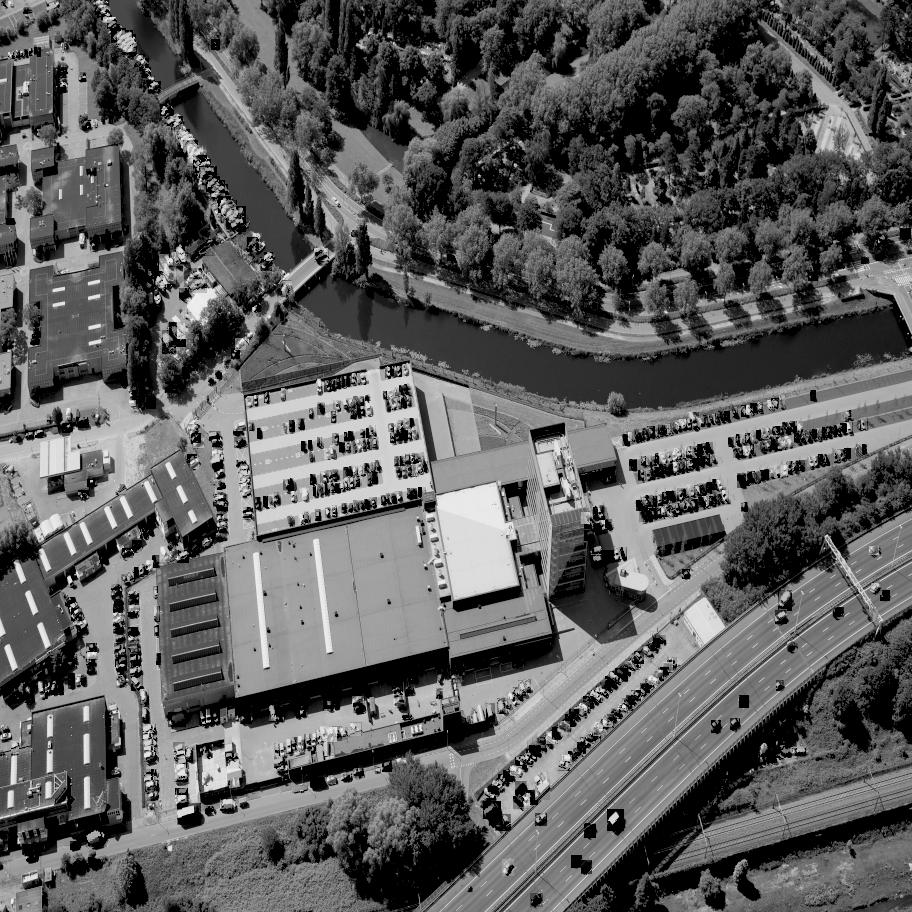large-vehicle: (176, 803, 204, 825), (85, 826, 109, 848), (606, 810, 627, 832), (167, 713, 188, 729), (494, 815, 514, 831), (130, 675, 145, 691), (313, 249, 330, 262), (188, 542, 202, 557), (280, 281, 294, 296), (172, 743, 188, 756), (689, 413, 701, 430), (199, 709, 210, 727), (176, 551, 191, 564), (145, 781, 160, 794), (589, 546, 604, 559), (160, 546, 171, 563), (144, 752, 159, 764), (185, 746, 195, 763), (179, 289, 193, 301), (175, 765, 189, 777), (174, 788, 189, 799), (174, 796, 189, 807), (143, 724, 157, 735), (129, 667, 143, 678), (591, 556, 605, 567), (212, 707, 221, 724), (140, 689, 149, 705), (203, 348, 217, 358), (584, 531, 596, 542), (144, 738, 157, 748), (220, 800, 233, 810), (175, 759, 188, 768), (174, 774, 188, 782), (878, 235, 889, 245), (144, 776, 156, 785), (241, 715, 252, 724), (211, 39, 220, 50), (226, 753, 237, 761), (208, 708, 213, 724), (202, 538, 211, 546), (143, 708, 148, 722), (144, 733, 154, 740), (154, 607, 159, 621), (175, 752, 184, 759), (145, 747, 155, 753), (146, 770, 156, 775), (584, 523, 591, 529)
ship: (167, 322, 188, 348), (226, 207, 247, 231), (188, 146, 207, 168), (184, 269, 204, 289), (162, 330, 178, 355), (117, 34, 137, 53), (161, 264, 179, 285), (196, 240, 217, 257), (175, 322, 194, 340), (116, 30, 135, 48), (210, 185, 230, 201), (188, 279, 209, 294), (183, 140, 200, 157), (221, 201, 239, 217), (195, 159, 213, 174), (176, 244, 189, 264), (121, 39, 137, 55), (95, 0, 111, 16), (111, 28, 128, 43), (209, 180, 227, 194), (218, 196, 232, 214), (154, 276, 167, 295), (188, 145, 203, 161), (206, 177, 221, 193), (230, 219, 248, 232), (179, 132, 194, 147), (199, 167, 217, 179), (247, 237, 261, 252), (157, 272, 171, 287), (170, 253, 184, 268), (193, 156, 209, 169), (202, 174, 218, 187), (148, 81, 162, 95), (148, 262, 160, 278), (225, 209, 241, 221), (153, 287, 163, 306), (159, 255, 170, 272), (261, 258, 274, 272), (163, 254, 176, 268), (138, 58, 151, 72), (160, 105, 174, 117), (215, 193, 230, 204), (122, 47, 138, 57), (171, 119, 184, 131), (133, 55, 146, 67), (167, 117, 183, 126), (155, 261, 166, 274), (176, 130, 191, 139), (181, 140, 196, 149), (98, 7, 110, 18), (139, 329, 150, 341), (145, 77, 157, 88), (146, 267, 154, 283), (102, 17, 117, 25), (141, 68, 153, 78), (106, 20, 118, 30), (126, 51, 138, 60), (139, 346, 149, 356), (165, 110, 175, 120), (264, 252, 274, 262), (252, 234, 262, 240), (184, 313, 192, 320), (101, 15, 112, 20), (110, 25, 120, 29)
small-vehicle: (534, 779, 554, 801), (483, 801, 502, 820), (777, 590, 794, 611), (775, 739, 792, 759), (758, 744, 771, 766), (23, 684, 36, 704), (514, 781, 530, 797), (583, 824, 600, 839), (501, 859, 515, 876), (580, 860, 595, 875), (491, 778, 506, 793), (529, 893, 545, 907), (513, 757, 529, 771), (774, 611, 790, 625), (613, 669, 630, 682), (533, 813, 550, 826), (214, 494, 229, 508), (200, 536, 215, 550), (525, 790, 539, 805), (489, 811, 503, 826), (38, 680, 48, 700), (324, 693, 335, 711), (512, 796, 526, 810), (772, 749, 786, 763), (507, 692, 520, 707), (532, 775, 545, 790), (332, 726, 344, 742), (112, 615, 126, 628), (75, 619, 89, 632), (71, 608, 84, 622), (115, 676, 129, 689), (187, 419, 200, 433), (235, 338, 249, 351), (350, 723, 364, 736), (621, 699, 635, 712), (609, 672, 623, 685), (642, 646, 656, 659), (529, 744, 543, 757), (546, 731, 560, 744), (595, 686, 610, 698), (392, 696, 407, 708), (269, 706, 280, 722), (497, 698, 508, 714), (486, 703, 495, 722), (168, 546, 181, 559), (594, 723, 607, 736), (565, 714, 578, 727), (512, 688, 525, 701), (581, 512, 594, 525), (730, 718, 743, 731), (114, 656, 128, 668), (210, 457, 224, 469), (228, 759, 242, 771), (570, 855, 584, 867), (591, 690, 605, 702), (483, 789, 497, 801), (642, 677, 656, 689), (629, 656, 641, 670), (273, 757, 287, 769), (785, 733, 797, 747), (558, 721, 572, 733), (497, 774, 511, 786), (327, 728, 338, 743), (320, 726, 331, 741), (595, 505, 606, 520), (721, 760, 730, 778), (315, 730, 325, 746), (737, 473, 747, 489), (234, 437, 247, 449), (131, 540, 144, 552), (201, 772, 213, 785), (354, 703, 367, 715), (583, 696, 595, 709), (605, 676, 618, 688), (589, 729, 602, 741), (603, 715, 615, 728), (164, 381, 177, 393), (633, 651, 645, 664), (525, 750, 538, 762), (870, 582, 882, 595), (738, 695, 750, 708), (683, 499, 694, 513), (188, 424, 199, 438), (534, 741, 548, 752), (121, 549, 135, 560), (502, 771, 516, 782), (661, 662, 675, 673), (520, 756, 535, 766), (509, 766, 524, 776), (115, 484, 127, 496), (68, 674, 77, 690), (291, 737, 300, 753), (577, 742, 589, 754), (599, 719, 611, 731), (181, 367, 193, 379), (880, 590, 892, 602), (569, 710, 581, 722), (711, 721, 723, 733), (114, 643, 127, 654), (68, 603, 81, 614), (77, 626, 90, 637), (687, 485, 698, 498), (213, 469, 226, 480), (21, 844, 34, 855), (86, 643, 99, 654), (203, 745, 214, 758), (623, 662, 636, 673), (228, 324, 241, 335), (774, 465, 785, 478), (552, 727, 563, 740), (786, 642, 799, 653), (760, 428, 771, 441), (747, 756, 758, 769), (67, 574, 77, 588), (114, 650, 128, 660), (192, 439, 206, 449), (25, 853, 39, 863), (68, 654, 78, 668), (339, 727, 349, 741), (600, 683, 614, 693), (610, 708, 624, 718), (732, 760, 742, 774), (665, 505, 675, 519), (601, 550, 611, 564), (50, 681, 59, 696), (518, 681, 527, 696), (121, 574, 132, 586), (99, 552, 110, 564), (239, 483, 251, 494), (146, 399, 158, 410), (191, 433, 203, 444), (147, 791, 159, 802), (352, 687, 364, 698), (587, 693, 599, 704), (502, 697, 513, 709), (631, 691, 643, 702), (128, 627, 140, 638), (837, 449, 848, 461), (667, 658, 678, 670), (653, 671, 665, 682), (649, 675, 661, 686), (770, 725, 781, 737), (767, 751, 778, 763), (0, 733, 13, 743), (189, 459, 202, 469), (233, 421, 246, 431), (324, 379, 334, 392), (320, 472, 330, 485), (352, 697, 365, 707), (619, 666, 632, 676), (578, 703, 591, 713), (646, 426, 656, 439), (538, 772, 548, 785), (635, 687, 648, 697), (832, 608, 845, 618), (659, 452, 669, 465), (333, 695, 341, 711), (703, 495, 712, 509), (522, 794, 531, 808), (573, 708, 587, 717), (557, 762, 571, 771), (645, 495, 654, 509), (230, 349, 241, 360), (251, 302, 262, 313), (808, 272, 819, 283), (681, 569, 692, 580), (62, 424, 74, 434), (216, 502, 228, 512), (113, 611, 125, 621), (140, 527, 150, 539), (209, 431, 221, 441), (712, 479, 722, 491), (70, 841, 82, 851), (689, 499, 699, 511), (243, 332, 255, 342), (360, 373, 370, 385), (56, 680, 64, 695), (389, 399, 399, 411), (304, 735, 312, 750), (353, 768, 365, 778), (617, 705, 629, 715), (573, 748, 585, 758), (438, 673, 448, 685), (625, 695, 637, 705), (222, 332, 234, 342), (214, 338, 224, 350), (774, 730, 784, 742), (869, 546, 881, 556), (640, 497, 650, 509), (636, 500, 646, 512), (752, 472, 762, 484), (785, 436, 795, 448), (146, 523, 155, 536), (65, 598, 78, 607), (677, 488, 686, 501), (186, 454, 199, 463), (354, 439, 363, 452), (326, 470, 335, 483), (317, 484, 326, 497), (311, 778, 324, 787), (717, 479, 726, 492), (692, 446, 701, 459), (642, 428, 651, 441), (747, 471, 756, 484), (738, 760, 747, 773), (11, 741, 19, 755), (217, 514, 228, 524), (763, 442, 773, 453), (771, 398, 781, 409), (223, 357, 234, 367), (131, 660, 142, 670), (331, 198, 342, 208), (586, 734, 597, 744), (393, 691, 404, 701), (382, 761, 392, 772), (775, 681, 786, 691), (640, 683, 651, 693), (128, 635, 139, 645), (779, 438, 789, 449), (674, 449, 684, 460), (639, 512, 649, 523), (653, 638, 663, 649), (794, 421, 804, 432), (76, 418, 88, 427), (239, 478, 251, 487), (694, 485, 703, 497), (239, 472, 251, 481), (238, 466, 250, 475), (317, 403, 326, 415), (333, 400, 342, 412), (130, 654, 142, 663), (665, 424, 674, 436), (481, 801, 493, 810), (191, 359, 200, 371), (645, 510, 654, 522), (276, 765, 288, 774), (812, 456, 821, 468), (845, 422, 854, 434), (676, 461, 685, 473), (629, 459, 638, 471), (655, 635, 667, 644), (727, 763, 736, 775), (366, 401, 373, 416), (311, 733, 318, 748), (700, 483, 708, 496), (152, 556, 160, 569), (332, 469, 340, 482), (358, 463, 366, 476), (74, 674, 82, 687), (287, 514, 295, 527), (743, 758, 751, 771), (793, 748, 806, 756), (539, 738, 552, 746), (807, 456, 815, 469), (743, 473, 751, 486), (524, 680, 532, 693), (666, 491, 676, 501), (568, 751, 578, 761), (168, 543, 179, 552), (12, 693, 23, 702), (113, 604, 124, 613), (215, 481, 226, 490), (403, 418, 412, 429), (698, 497, 707, 508), (679, 419, 688, 430), (580, 738, 591, 747), (409, 453, 418, 464), (782, 723, 791, 734), (127, 572, 136, 583), (411, 488, 420, 499), (796, 461, 805, 472), (681, 462, 690, 473), (835, 425, 844, 436), (649, 509, 658, 520), (788, 421, 797, 432), (783, 423, 792, 434), (714, 492, 721, 506), (286, 739, 293, 753), (298, 511, 305, 525), (776, 437, 783, 451), (111, 591, 123, 599), (683, 488, 691, 500), (282, 423, 290, 435), (350, 441, 358, 453), (343, 467, 351, 479), (323, 448, 331, 460), (703, 415, 711, 427), (742, 406, 750, 418), (268, 496, 276, 508), (818, 454, 826, 466), (823, 454, 831, 466), (675, 503, 683, 515), (665, 452, 673, 464), (623, 434, 631, 446), (638, 470, 646, 482), (815, 429, 823, 441), (805, 430, 813, 442), (403, 363, 410, 376), (861, 418, 868, 431), (620, 547, 627, 560), (411, 464, 418, 477), (395, 492, 404, 502), (697, 457, 706, 467), (668, 465, 677, 475), (750, 403, 759, 413), (217, 527, 228, 535), (246, 396, 254, 407), (212, 449, 223, 457), (772, 426, 780, 437), (146, 560, 154, 571), (284, 480, 292, 491), (325, 508, 333, 519), (334, 483, 342, 494), (358, 500, 366, 511), (401, 398, 409, 409), (675, 420, 683, 431), (653, 426, 661, 437), (562, 756, 573, 764), (647, 643, 658, 651), (129, 598, 140, 606), (722, 491, 730, 502), (733, 448, 741, 459), (744, 446, 752, 457), (488, 787, 499, 795), (747, 405, 755, 416), (663, 492, 670, 504), (255, 497, 262, 509), (276, 708, 282, 722), (681, 501, 688, 513), (787, 462, 794, 474), (751, 431, 758, 443), (396, 467, 403, 479), (644, 469, 651, 481), (606, 519, 613, 531), (657, 668, 669, 675), (114, 624, 123, 633), (174, 376, 183, 385), (209, 378, 218, 387), (396, 758, 405, 767), (87, 479, 97, 487), (241, 490, 251, 498), (718, 494, 726, 504), (215, 370, 223, 380), (332, 434, 340, 444), (369, 426, 377, 436), (87, 652, 97, 660), (369, 498, 377, 508), (399, 386, 407, 396), (708, 414, 716, 424), (670, 423, 678, 433), (387, 389, 395, 399), (645, 456, 653, 466), (129, 604, 139, 612), (128, 591, 138, 599), (741, 502, 749, 512), (46, 682, 52, 695), (396, 364, 402, 377), (649, 467, 655, 480), (779, 396, 785, 409), (398, 420, 405, 431), (706, 482, 713, 493), (142, 564, 149, 575), (339, 442, 346, 453), (329, 482, 336, 493), (732, 407, 739, 418), (693, 458, 700, 469), (845, 448, 852, 459), (671, 506, 678, 517), (728, 436, 735, 447), (673, 463, 680, 474), (638, 432, 645, 443), (58, 86, 67, 94), (673, 490, 679, 502), (154, 625, 160, 637), (331, 380, 337, 392), (356, 476, 362, 488), (299, 418, 305, 430), (373, 437, 379, 449), (385, 367, 391, 379), (385, 400, 391, 412), (686, 419, 692, 431), (263, 496, 269, 508), (841, 412, 849, 421), (698, 444, 704, 456), (707, 442, 713, 454), (447, 254, 456, 262), (826, 426, 832, 438), (243, 507, 253, 514), (73, 618, 83, 625), (58, 78, 68, 85), (317, 379, 322, 393), (349, 398, 356, 408), (299, 736, 304, 750), (355, 218, 365, 225), (724, 412, 731, 422), (699, 417, 706, 427), (401, 431, 408, 441), (607, 714, 617, 721), (388, 423, 395, 433), (830, 426, 837, 436), (740, 434, 747, 444), (745, 433, 752, 443), (651, 456, 658, 466), (634, 429, 639, 443), (757, 403, 764, 413), (768, 400, 774, 411), (138, 566, 144, 577), (264, 392, 270, 403), (376, 461, 382, 472), (340, 481, 346, 492), (365, 499, 371, 510), (405, 384, 411, 395), (390, 433, 396, 444), (811, 390, 817, 401), (296, 704, 301, 717), (300, 703, 305, 716), (275, 744, 280, 757), (281, 742, 285, 758), (79, 491, 88, 498), (242, 512, 251, 519), (383, 391, 390, 400), (342, 774, 351, 781), (23, 7, 32, 14), (115, 636, 125, 642), (214, 454, 224, 460), (771, 440, 777, 450), (217, 493, 227, 499), (373, 472, 378, 484), (361, 438, 367, 448), (351, 410, 357, 420), (310, 451, 315, 463), (393, 388, 399, 398), (305, 511, 310, 523), (437, 688, 442, 700), (392, 492, 397, 504), (2, 131, 8, 141), (128, 610, 138, 616), (422, 462, 428, 472), (857, 420, 863, 430), (841, 423, 847, 433), (760, 441, 766, 451), (681, 449, 687, 459), (608, 550, 614, 560), (811, 429, 817, 439), (800, 433, 806, 443), (36, 430, 44, 437), (91, 120, 98, 128), (862, 257, 870, 264), (876, 254, 884, 261), (413, 427, 418, 438), (33, 844, 44, 849), (134, 567, 139, 578), (153, 587, 158, 598), (336, 378, 341, 389), (290, 420, 295, 431), (331, 412, 336, 423), (302, 441, 307, 452), (332, 506, 337, 517), (793, 461, 798, 472), (688, 460, 693, 471), (783, 465, 788, 476), (862, 444, 867, 455), (597, 522, 602, 533), (25, 433, 34, 439), (24, 49, 30, 58), (112, 585, 121, 591), (237, 460, 246, 466), (205, 807, 214, 813), (354, 397, 360, 406), (719, 412, 725, 421), (405, 687, 414, 693), (128, 642, 137, 648), (711, 454, 717, 463), (756, 430, 762, 439), (795, 434, 801, 443), (302, 488, 306, 501), (615, 548, 619, 561), (253, 396, 258, 406), (344, 479, 349, 489), (386, 493, 391, 503), (381, 495, 386, 505), (715, 413, 720, 423), (396, 431, 401, 441), (395, 457, 400, 467), (405, 454, 410, 464), (37, 47, 42, 57), (702, 443, 707, 453), (686, 447, 691, 457), (657, 508, 662, 518), (672, 452, 677, 462), (657, 454, 662, 464), (593, 508, 598, 518), (765, 470, 770, 480), (115, 599, 122, 606), (87, 667, 94, 674), (391, 679, 398, 686), (217, 511, 225, 517), (217, 534, 225, 540), (218, 522, 226, 528), (132, 649, 140, 655), (78, 76, 86, 82), (64, 43, 70, 51), (59, 76, 67, 82), (328, 778, 336, 784), (368, 473, 372, 485), (409, 677, 417, 683), (117, 665, 126, 670), (59, 69, 68, 74), (124, 225, 129, 234), (348, 503, 353, 512), (86, 660, 95, 665), (659, 426, 664, 435), (403, 714, 412, 719), (664, 465, 669, 474), (67, 409, 71, 420), (341, 377, 345, 388), (157, 653, 161, 664), (275, 492, 279, 503), (316, 510, 320, 521), (198, 351, 202, 362), (257, 428, 261, 439), (835, 452, 839, 463), (740, 447, 744, 458), (60, 83, 67, 89), (33, 327, 40, 333), (785, 731, 791, 738), (47, 415, 51, 425), (408, 430, 412, 440), (213, 438, 221, 443), (234, 430, 242, 435), (213, 444, 221, 449), (767, 429, 771, 439), (281, 388, 285, 398), (360, 396, 364, 406), (309, 408, 313, 418), (344, 399, 348, 409), (360, 429, 364, 439), (311, 475, 315, 485), (353, 465, 357, 475), (343, 503, 347, 513), (313, 486, 317, 496), (324, 484, 328, 494), (81, 675, 85, 685), (406, 396, 410, 406), (393, 688, 401, 693), (706, 454, 710, 464), (661, 506, 665, 516), (641, 457, 646, 465), (761, 470, 765, 480), (2, 1, 8, 7), (117, 672, 123, 678), (248, 421, 252, 430), (349, 431, 353, 440), (410, 418, 414, 427), (397, 398, 401, 407), (351, 477, 354, 489), (418, 487, 422, 496), (847, 411, 851, 420), (822, 428, 826, 437), (654, 468, 658, 477), (736, 435, 740, 444), (770, 468, 774, 477), (9, 0, 14, 7), (80, 73, 87, 78), (2, 727, 9, 732), (31, 339, 38, 344), (7, 219, 14, 224), (659, 494, 662, 505), (331, 447, 334, 458), (660, 465, 663, 476), (602, 520, 605, 531), (317, 438, 321, 446), (663, 426, 667, 434), (780, 426, 784, 434), (710, 496, 713, 506), (130, 401, 136, 406), (353, 373, 356, 383), (346, 376, 349, 386), (367, 428, 370, 438), (394, 421, 397, 431), (349, 467, 352, 477), (354, 500, 357, 510), (292, 492, 295, 502), (857, 445, 860, 455), (409, 465, 412, 475), (403, 467, 406, 477), (59, 73, 66, 77), (308, 441, 312, 448), (357, 409, 361, 416), (654, 497, 657, 506), (32, 335, 41, 338), (344, 432, 347, 441), (368, 440, 371, 449), (408, 489, 411, 498), (400, 457, 403, 466), (419, 463, 422, 472), (751, 444, 754, 453), (416, 454, 419, 463), (352, 231, 357, 236), (88, 121, 91, 129), (61, 44, 64, 52), (92, 243, 96, 249), (366, 395, 369, 403), (347, 443, 350, 451), (365, 464, 368, 472), (629, 433, 632, 441), (291, 479, 293, 490), (45, 252, 49, 257), (131, 395, 136, 399), (837, 263, 842, 267), (16, 51, 19, 57), (61, 65, 67, 68), (358, 374, 360, 383), (391, 366, 393, 375), (34, 48, 37, 54), (105, 240, 107, 248), (362, 407, 364, 415), (372, 463, 374, 471), (21, 51, 24, 56), (131, 391, 136, 394), (121, 379, 123, 386), (30, 49, 32, 56), (38, 130, 40, 136), (102, 117, 104, 122), (110, 116, 111, 124), (13, 52, 14, 59), (9, 53, 10, 59)
